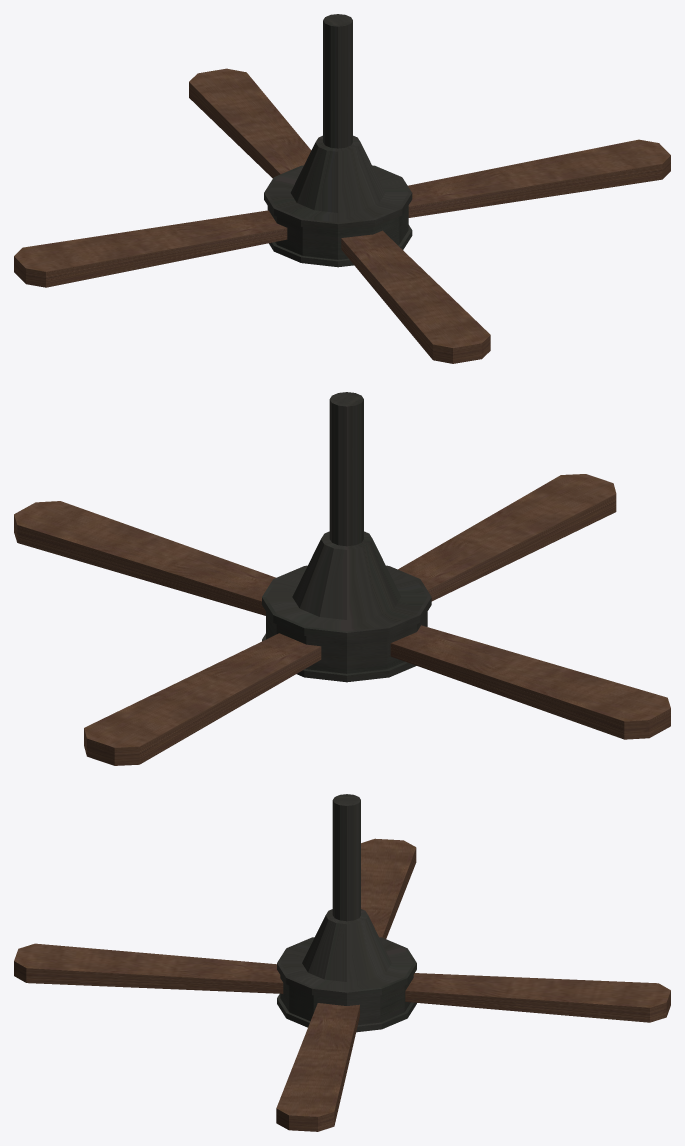
The model's file is ceilingFan_v2.fbx.
3 renders of one model, top to bottom at view 1: azimuth 30°, elevation 25°; view 2: azimuth 150°, elevation 25°; view 3: azimuth 270°, elevation 25°, orthographic. The views are drawn at different scales.
Parts seen in each view (by area): view 1: pCube2 (×2), pCube1 (×2), base; view 2: pCube1 (×2), pCube2 (×2), base; view 3: pCube2 (×2), base, pCube1 (×2).
Boxes of the visible parts, x1,y1,x2,y2 form: pCube2 (×2): (341, 139, 670, 363); pCube1 (×2): (14, 68, 311, 287); base: (264, 14, 412, 267); pCube1 (×2): (84, 625, 670, 765); pCube2 (×2): (14, 474, 616, 615); base: (262, 392, 431, 682); pCube2 (×2): (14, 943, 359, 1131); base: (277, 794, 416, 1032); pCube1 (×2): (361, 838, 670, 1022).
Bounding box in the file's own units: 50.35 × 17.48 × 50.25.
3 materials, 2 textured.
